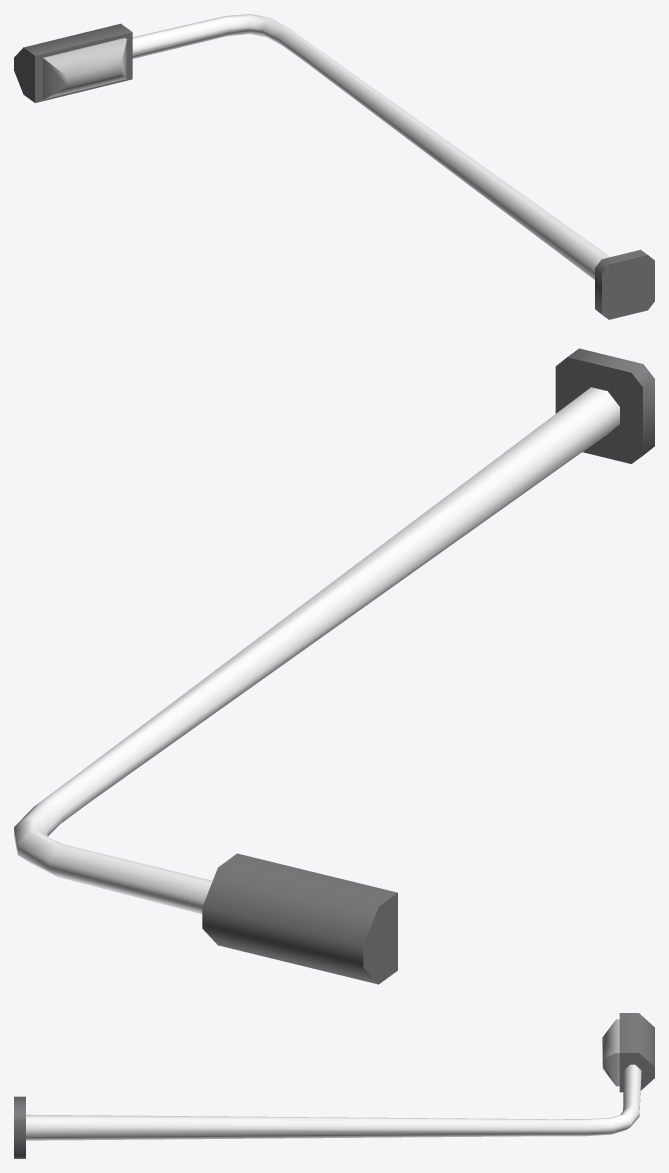
Rendered from P_Light03.fbx.
3 views of the same model, one above another, from view 1: azimuth 30°, elevation 25°; view 2: azimuth 150°, elevation 25°; view 3: azimuth 270°, elevation 25° (orthographic). The views are drawn at different scales.
Visible parts, largest first — view 1: streetlamp01; view 2: streetlamp01; view 3: streetlamp01.
Boxes of the visible parts, bbox=[...] form: streetlamp01: bbox=[14, 14, 654, 319]; streetlamp01: bbox=[14, 348, 654, 984]; streetlamp01: bbox=[14, 1013, 654, 1158].
Size of the model in its own units: 235 by 48.23 by 603.
